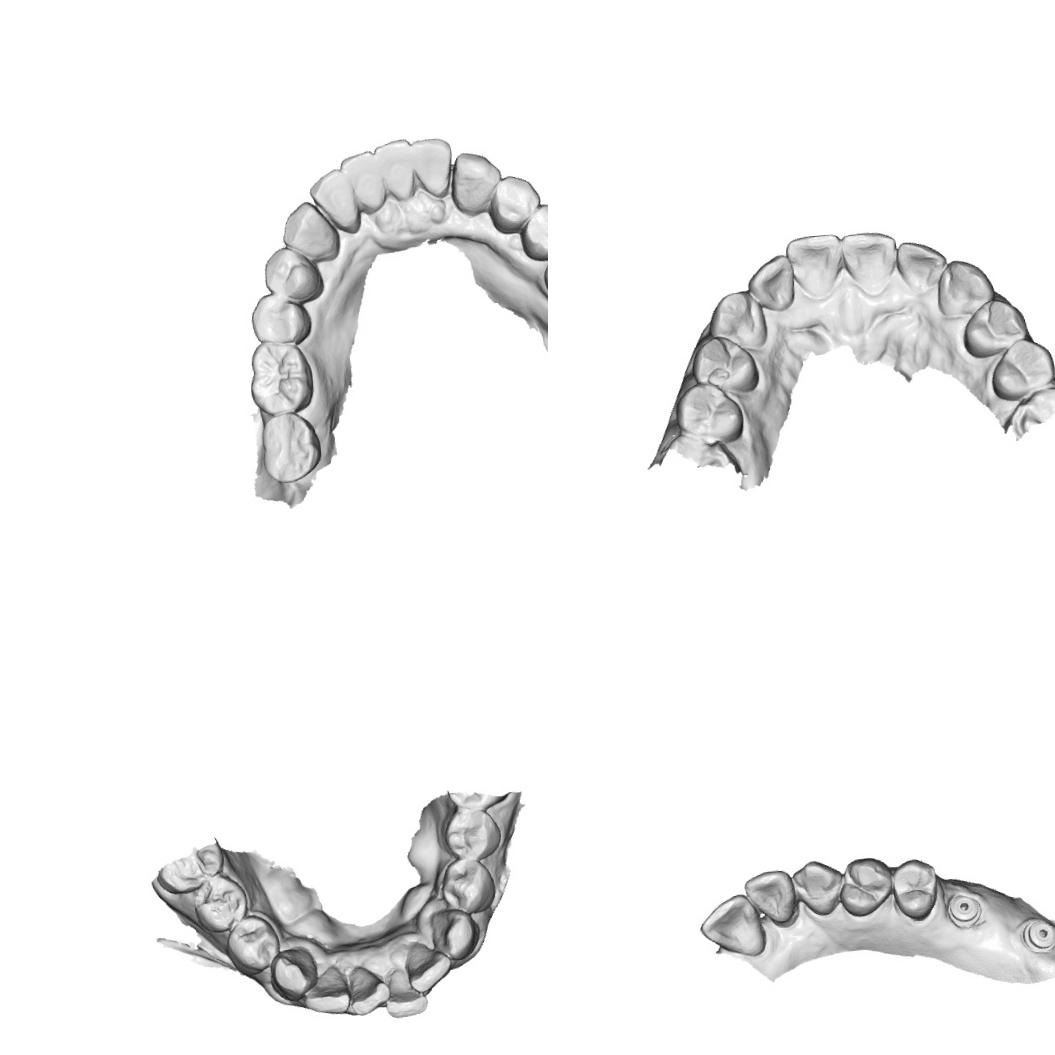canine: (932, 253, 998, 322), (704, 286, 770, 355), (278, 198, 341, 266), (448, 147, 504, 217), (421, 905, 484, 963), (789, 856, 846, 918), (266, 942, 318, 1002)
implant: (944, 891, 983, 930), (1019, 915, 1055, 955)
incisor: (696, 890, 768, 961), (836, 226, 904, 299), (780, 230, 846, 302), (306, 166, 362, 238), (741, 866, 801, 930), (337, 146, 387, 216), (892, 237, 950, 297), (744, 252, 798, 314), (298, 961, 354, 1018), (401, 938, 454, 997), (371, 136, 416, 204), (380, 962, 430, 1022), (342, 960, 393, 1018), (410, 136, 456, 200)
molar: (245, 334, 317, 418), (258, 407, 324, 485)
premolar: (671, 377, 748, 448), (984, 331, 1055, 404), (688, 331, 762, 401), (957, 294, 1031, 360), (260, 243, 325, 308), (189, 870, 250, 936), (246, 288, 313, 348), (440, 806, 506, 865), (222, 910, 281, 975), (835, 854, 895, 917), (435, 856, 498, 915), (486, 171, 543, 236), (888, 856, 940, 924), (517, 200, 548, 263)
